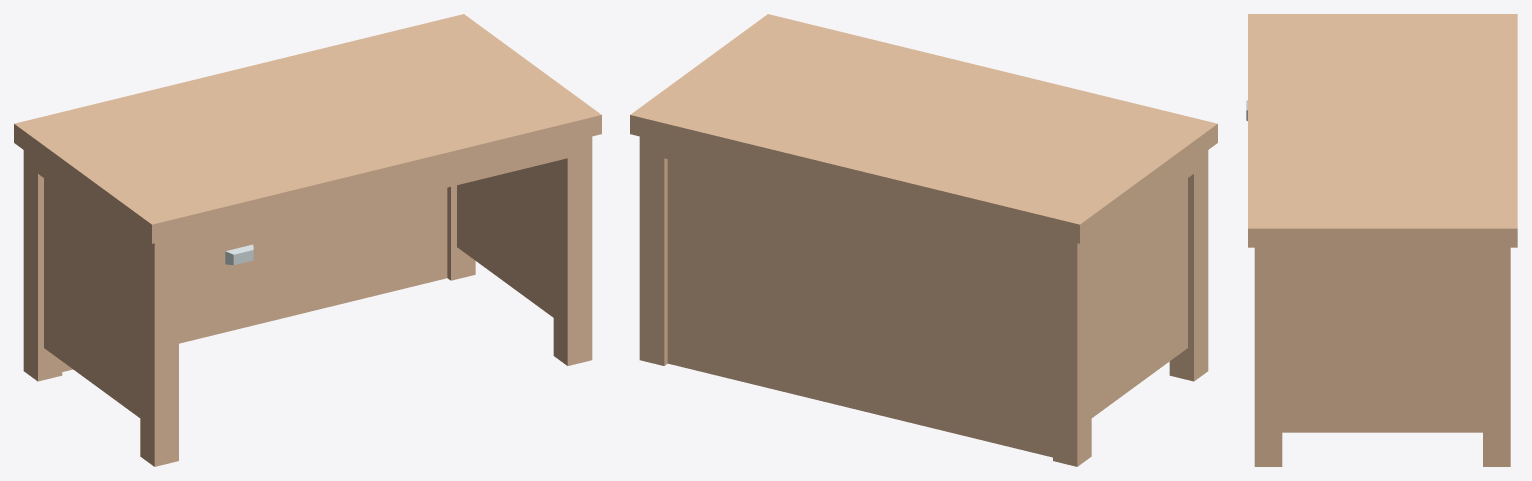
The model's file is k_desk.glb.
The picture shows the model from 3 angles, left to right: view 1: azimuth 30°, elevation 25°; view 2: azimuth 150°, elevation 25°; view 3: azimuth 270°, elevation 25°; orthographic projection. The views are drawn at different scales.
Parts seen in each view (by area): view 1: desk(Clone); view 2: desk(Clone); view 3: desk(Clone).
Part boxes in pixels (x1,y1,x2,y2): desk(Clone): (14,14,601,466); desk(Clone): (630,14,1217,466); desk(Clone): (1248,14,1517,466).
Size of the model in its own units: 1.34 by 0.7005 by 0.7148.
